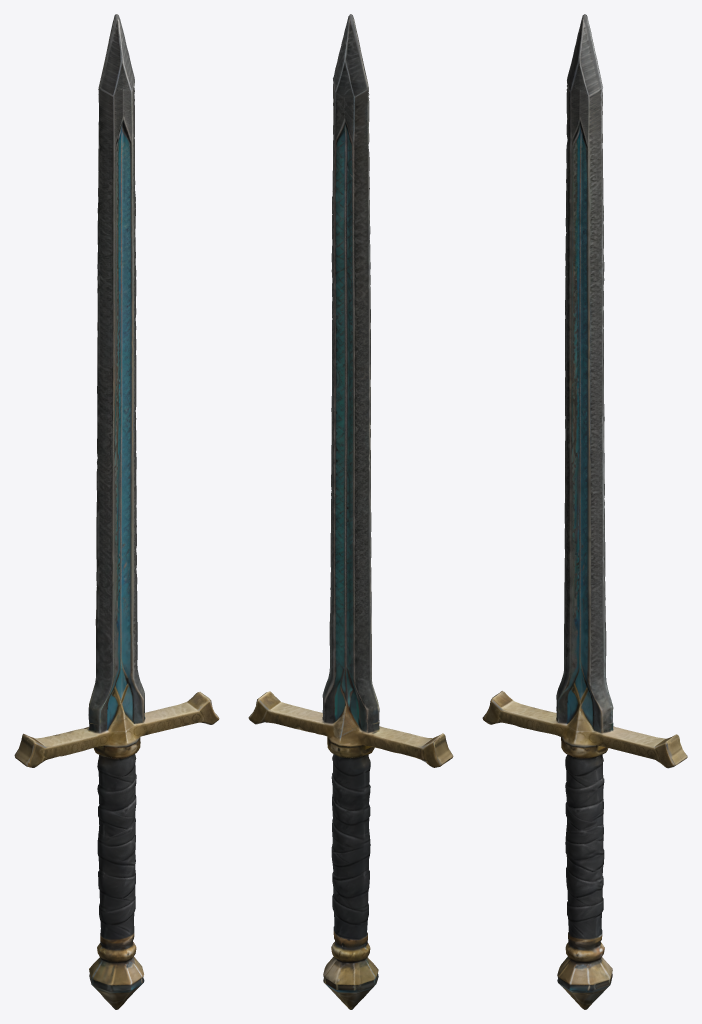
File: source.glb
3 renders of one model, left to right at view 1: azimuth 30°, elevation 25°; view 2: azimuth 150°, elevation 25°; view 3: azimuth 330°, elevation 25°, orthographic.
Parts seen in each view (by area): view 1: texture_mapping; view 2: texture_mapping; view 3: texture_mapping.
Boxes of the visible parts, x1,y1,x2,y2 form: texture_mapping: (14,14,219,1009); texture_mapping: (248,14,453,1009); texture_mapping: (482,14,687,1009).
Bounding box in the file's own units: 0.2036 × 0.9952 × 0.055.
1 material, 1 textured.
